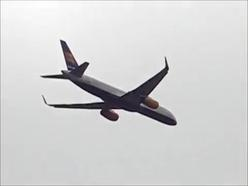aircraft: (40, 40, 178, 126)
